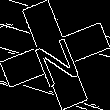N_N: (27, 24, 83, 86)
